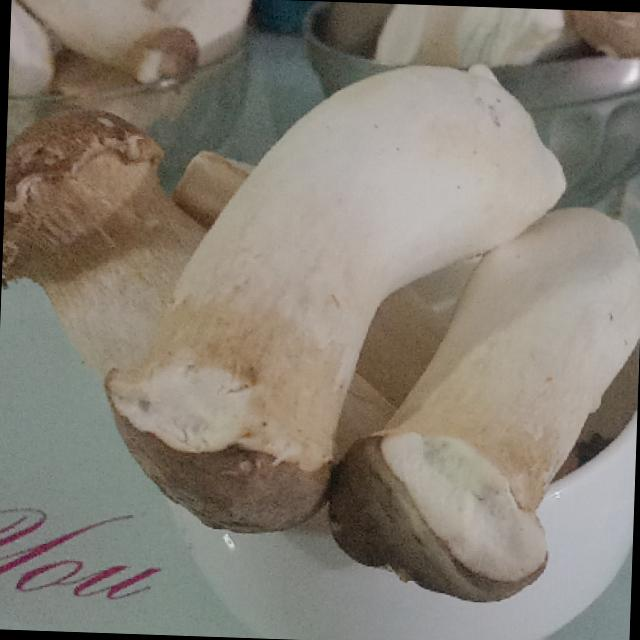Pleurotus eryngii: (104, 51, 574, 544), (321, 199, 640, 602), (0, 102, 217, 389)
